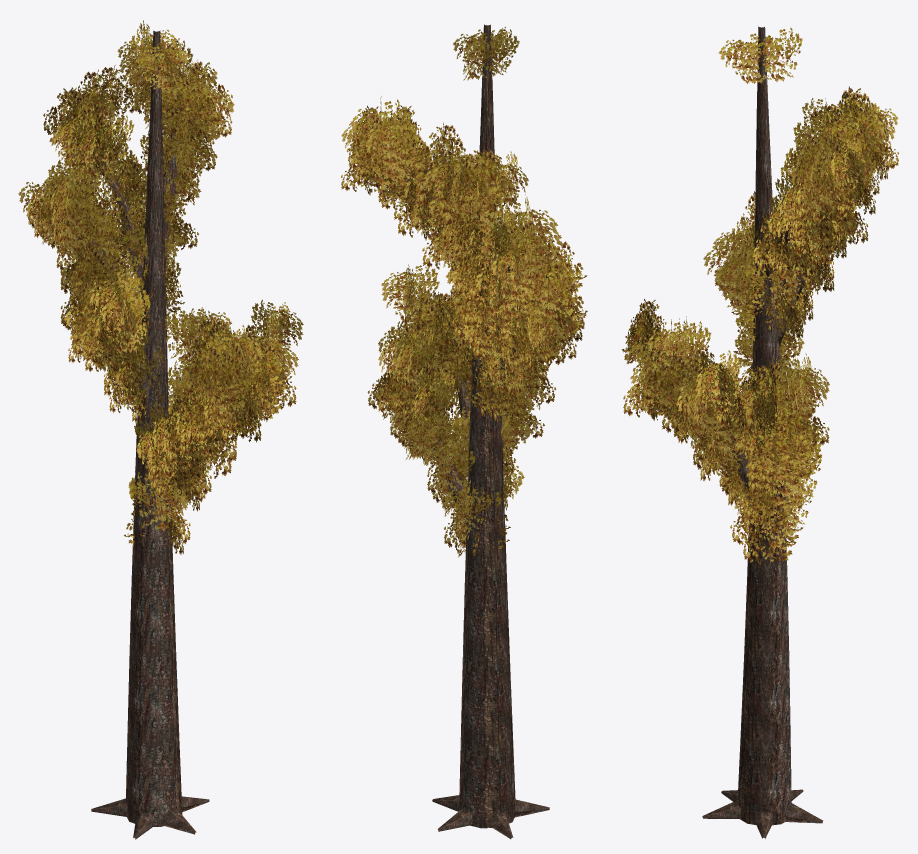
File: tree_3d_02_yellow_lod0.glb
The picture shows the model from 3 angles, left to right: view 1: azimuth 30°, elevation 25°; view 2: azimuth 150°, elevation 25°; view 3: azimuth 270°, elevation 25°; orthographic projection.
Parts seen in each view (by area): view 1: foliage_cards, wood_geometry; view 2: foliage_cards, wood_geometry; view 3: foliage_cards, wood_geometry.
Boxes of the visible parts, x1,y1,x2,y2 form: foliage_cards: (18, 20, 303, 554); wood_geometry: (55, 30, 270, 839); foliage_cards: (341, 26, 587, 557); wood_geometry: (385, 24, 549, 839); foliage_cards: (622, 27, 899, 566); wood_geometry: (681, 26, 869, 838).
Size of the model in its own units: 3.82 by 12.59 by 4.1.
2 materials, 2 textured.
